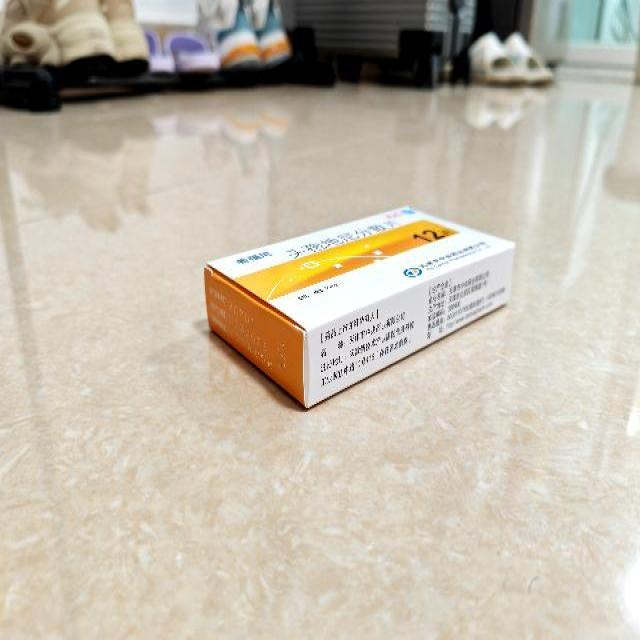box: (202, 203, 516, 410)
